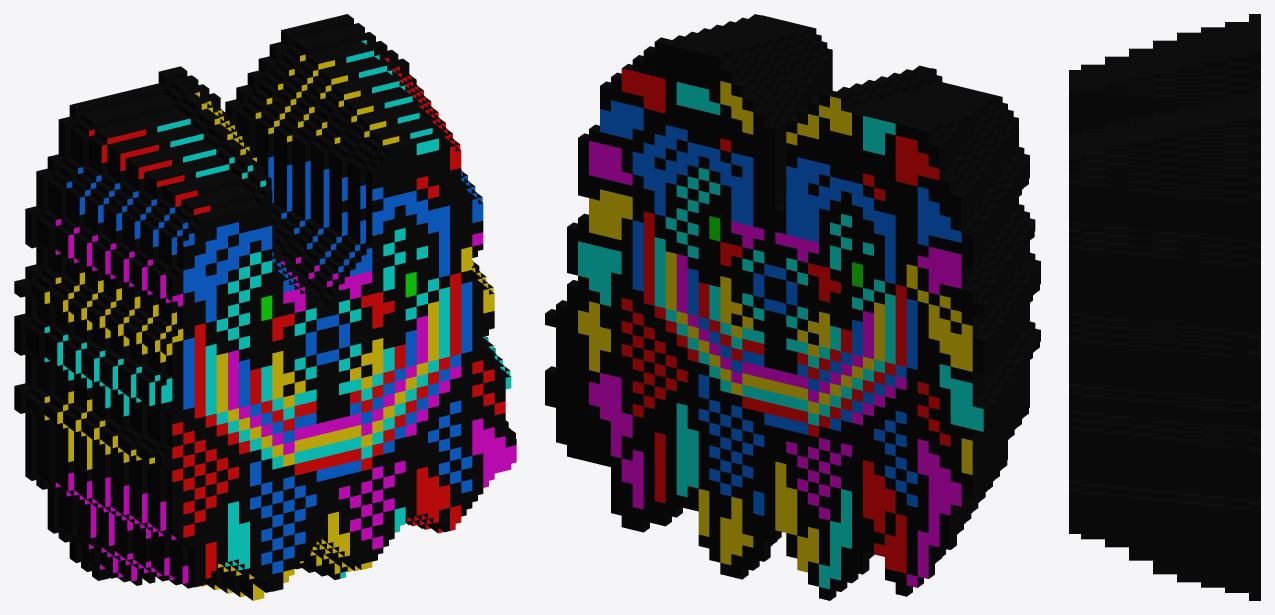
File: dreamlingP2.obj
3 renders of one model, left to right at view 1: azimuth 30°, elevation 25°; view 2: azimuth 150°, elevation 25°; view 3: azimuth 270°, elevation 25°, orthographic. The views are drawn at different scales.
Bounding box in the file's own units: 80 × 90 × 32.
